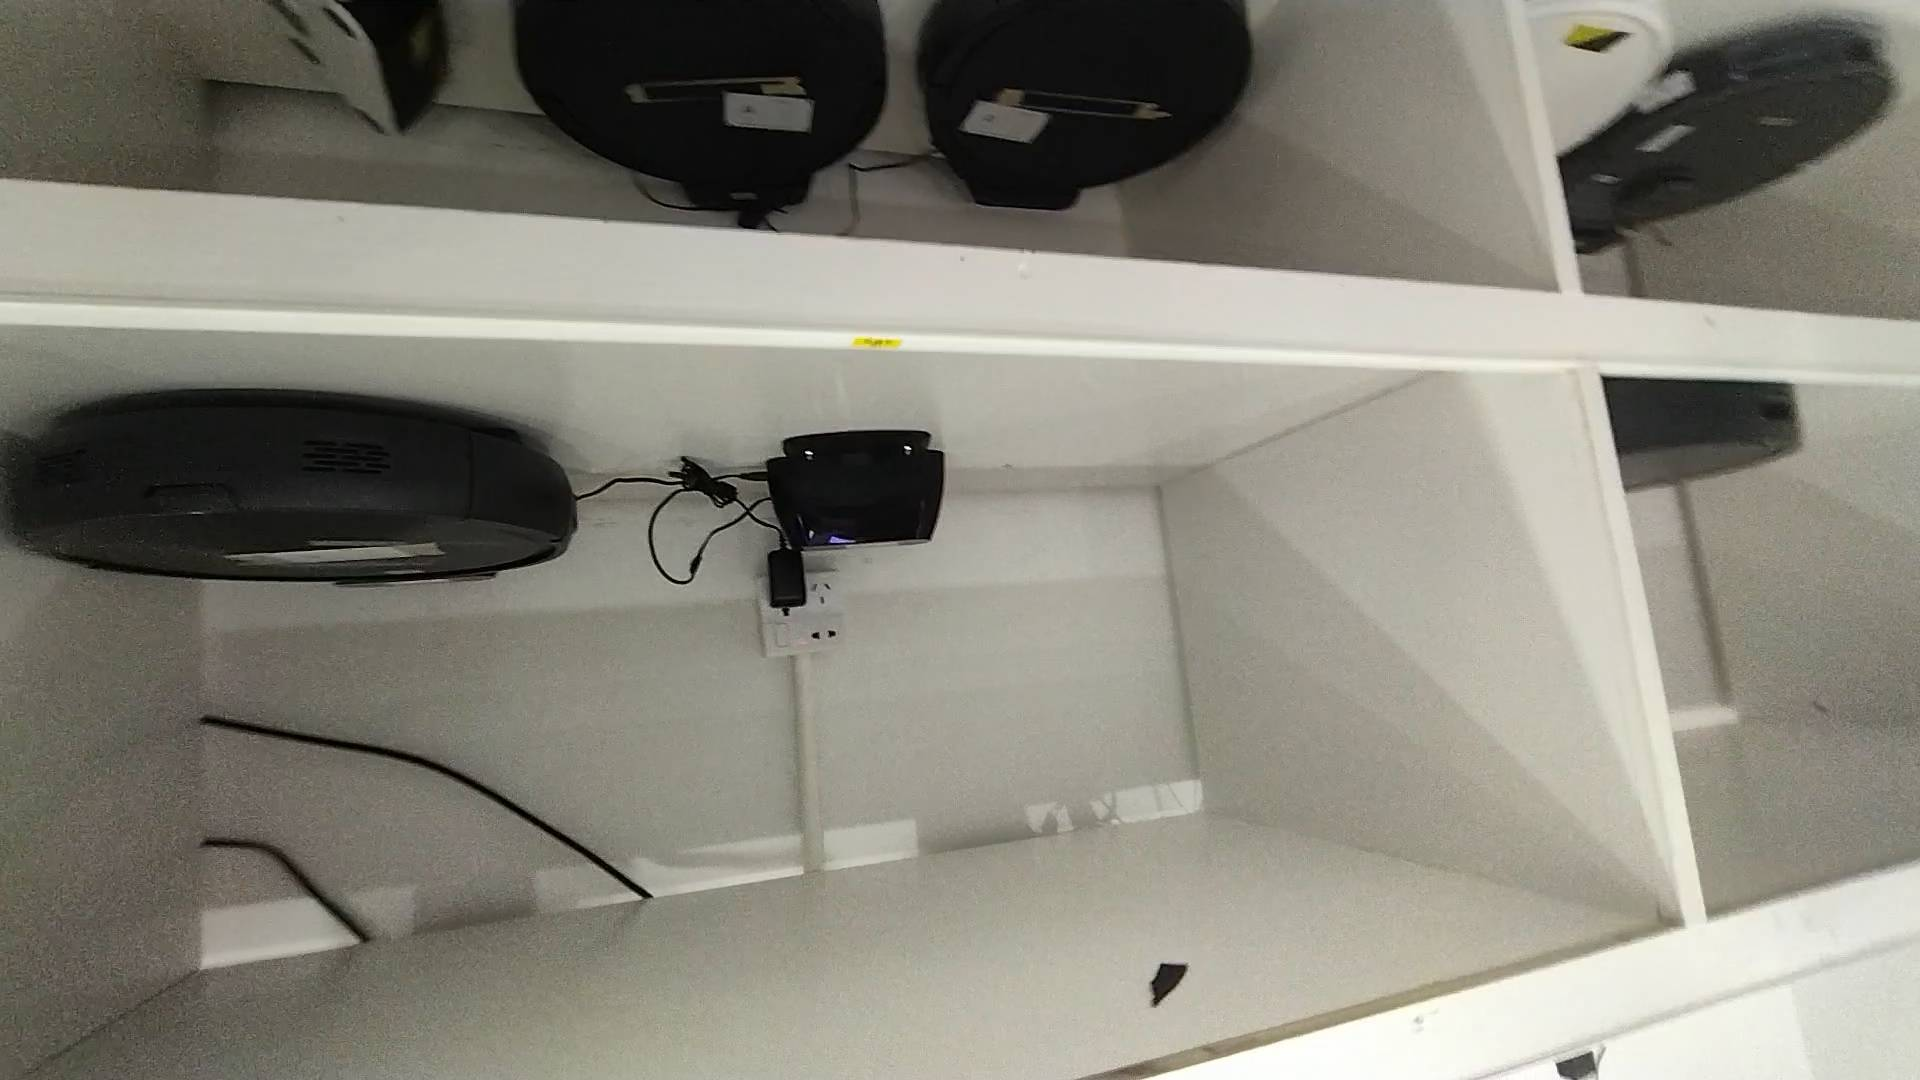recharge seat: (767, 429, 948, 551)
